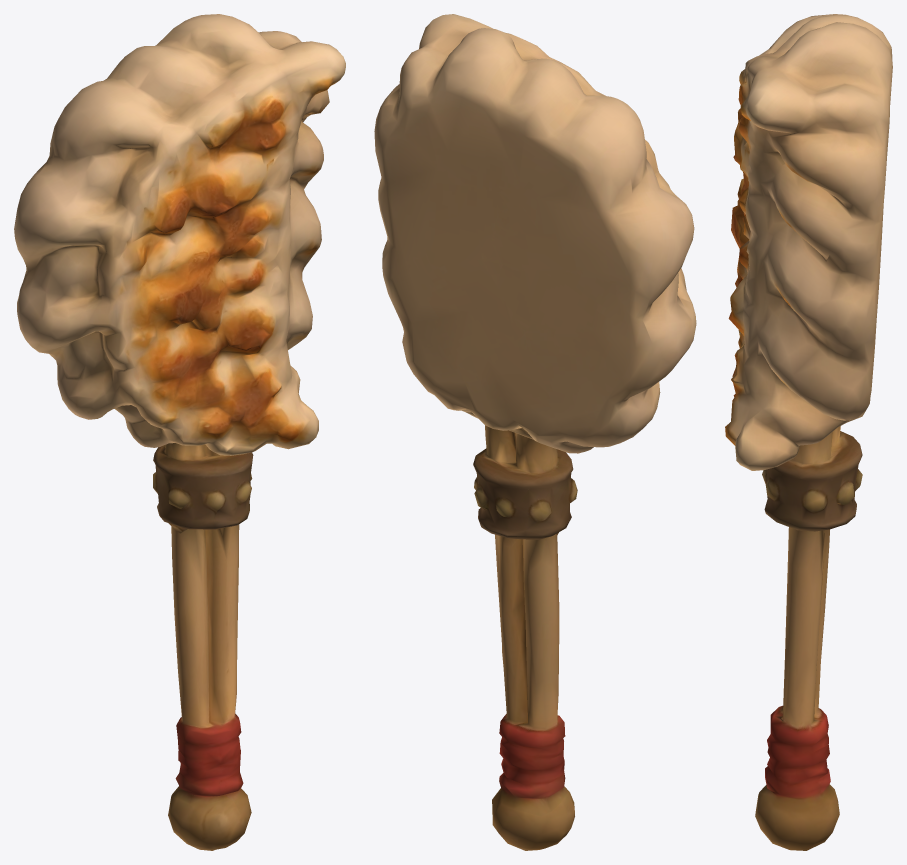
File: gyoza_mace.glb
3 renders of one model, left to right at view 1: azimuth 30°, elevation 25°; view 2: azimuth 150°, elevation 25°; view 3: azimuth 270°, elevation 25°, orthographic. The views are drawn at different scales.
Parts seen in each view (by area): view 1: tripo_node_72ee96d5-1ca4-4a1e-b5f5-82cb34625887; view 2: tripo_node_72ee96d5-1ca4-4a1e-b5f5-82cb34625887; view 3: tripo_node_72ee96d5-1ca4-4a1e-b5f5-82cb34625887.
Boxes of the visible parts, box(x1,y1,x2,y2) form: tripo_node_72ee96d5-1ca4-4a1e-b5f5-82cb34625887: box(14, 14, 345, 850); tripo_node_72ee96d5-1ca4-4a1e-b5f5-82cb34625887: box(374, 14, 696, 850); tripo_node_72ee96d5-1ca4-4a1e-b5f5-82cb34625887: box(725, 14, 892, 850).
Bounding box in the file's own units: 0.3837 × 1 × 0.1831.
Materials: 1 (1 with a texture image).
